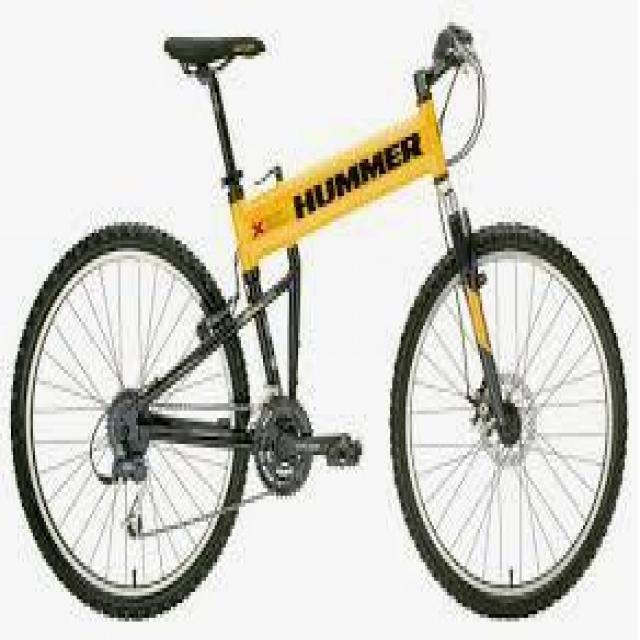bicycle: (16, 27, 630, 623)
